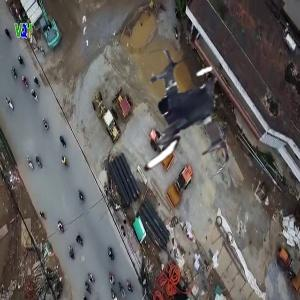drone: (98, 43, 250, 195)
